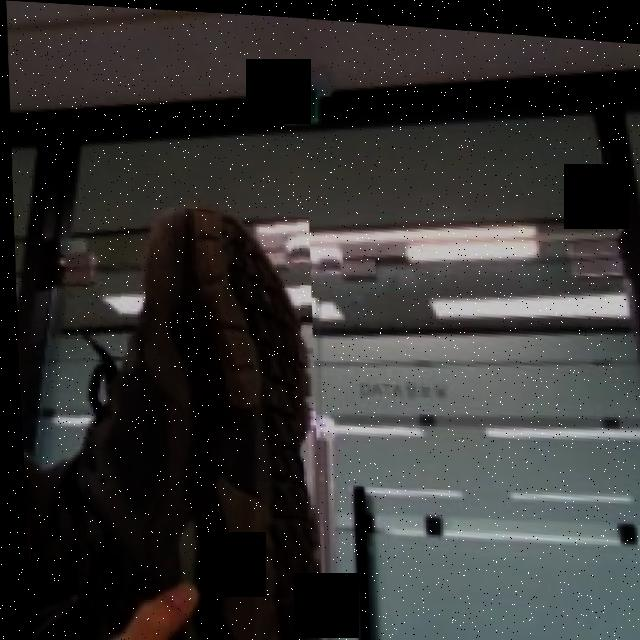shoe: (27, 195, 325, 640)
